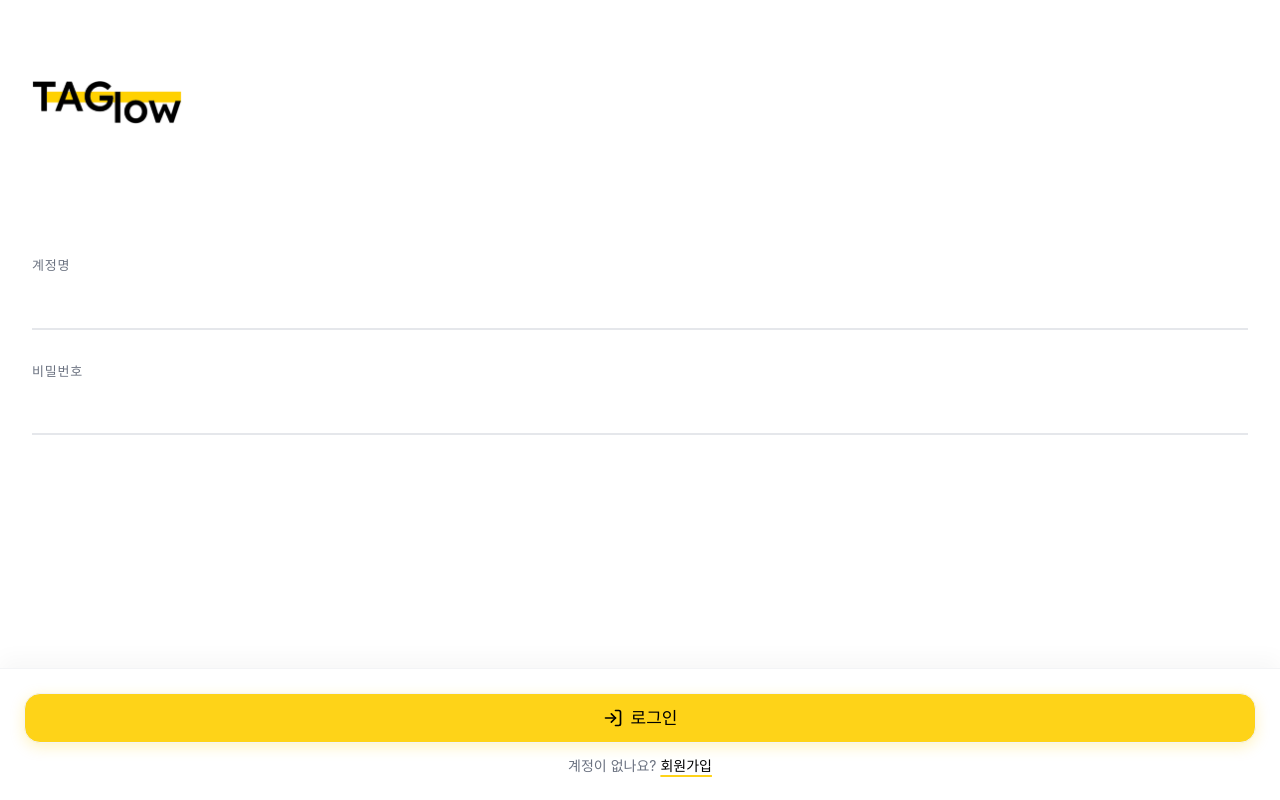
Test: LoginPage › does not block short login ids before submitting
Type "ab" into the field labelled "계정명". click: {"x": 640, "y": 307}
box: [32,284,1248,330]
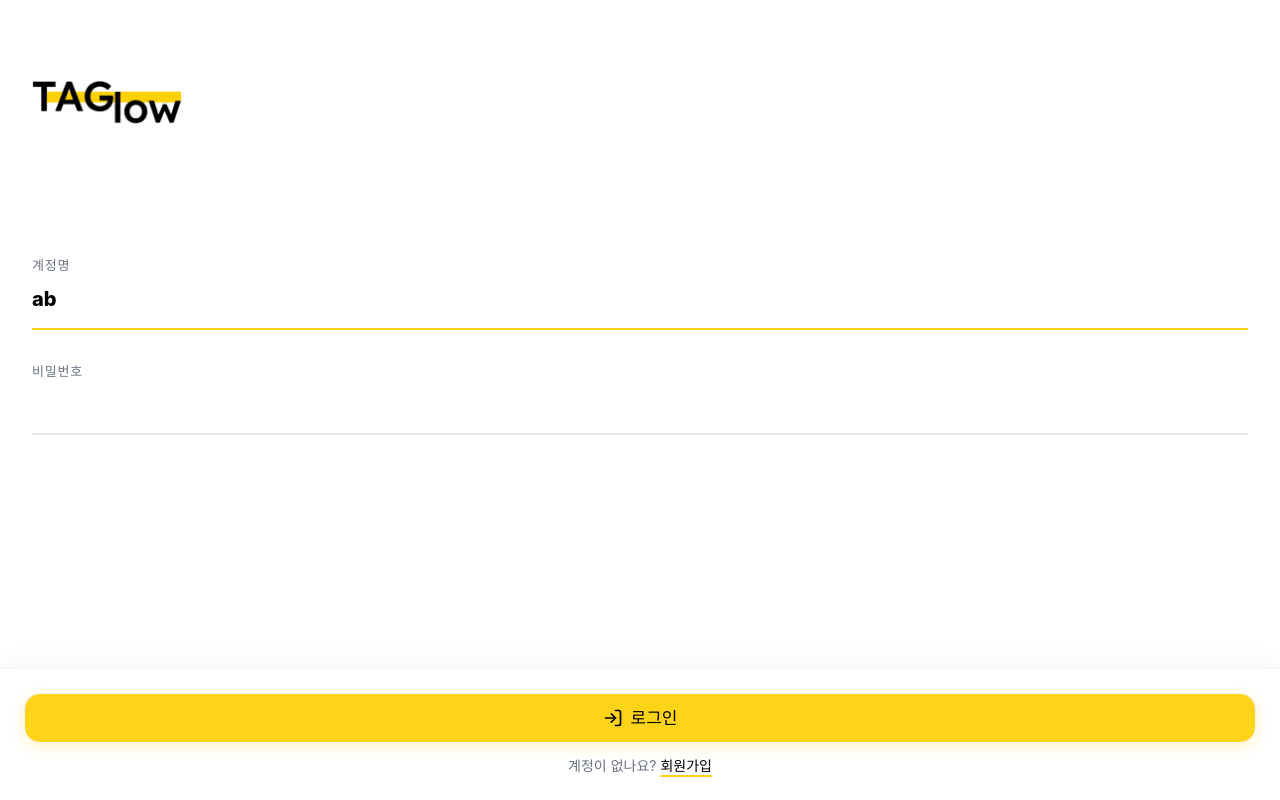
Type "password123" into the password field labelled "비밀번호". click: {"x": 640, "y": 412}
box: [32,389,1248,435]
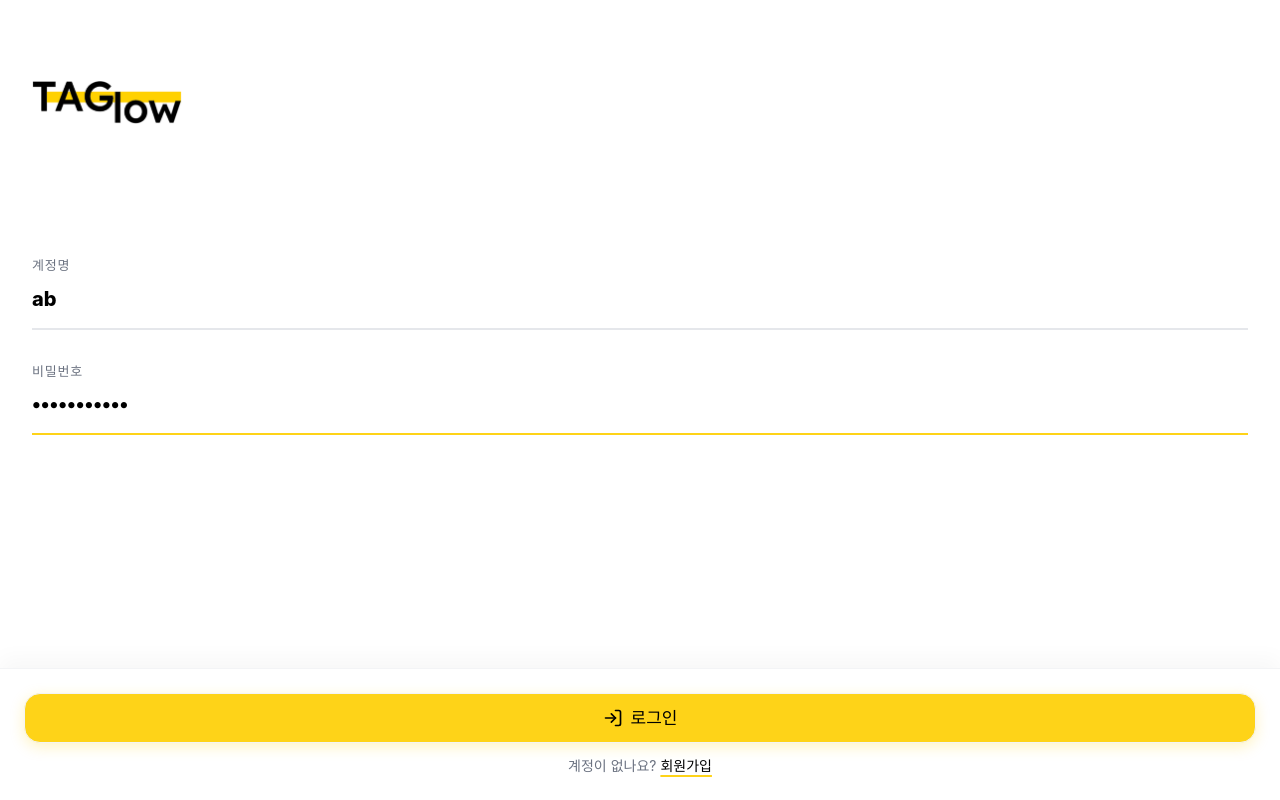
Click the button "로그인". click: {"x": 640, "y": 718}
box: [24,693,1256,743]
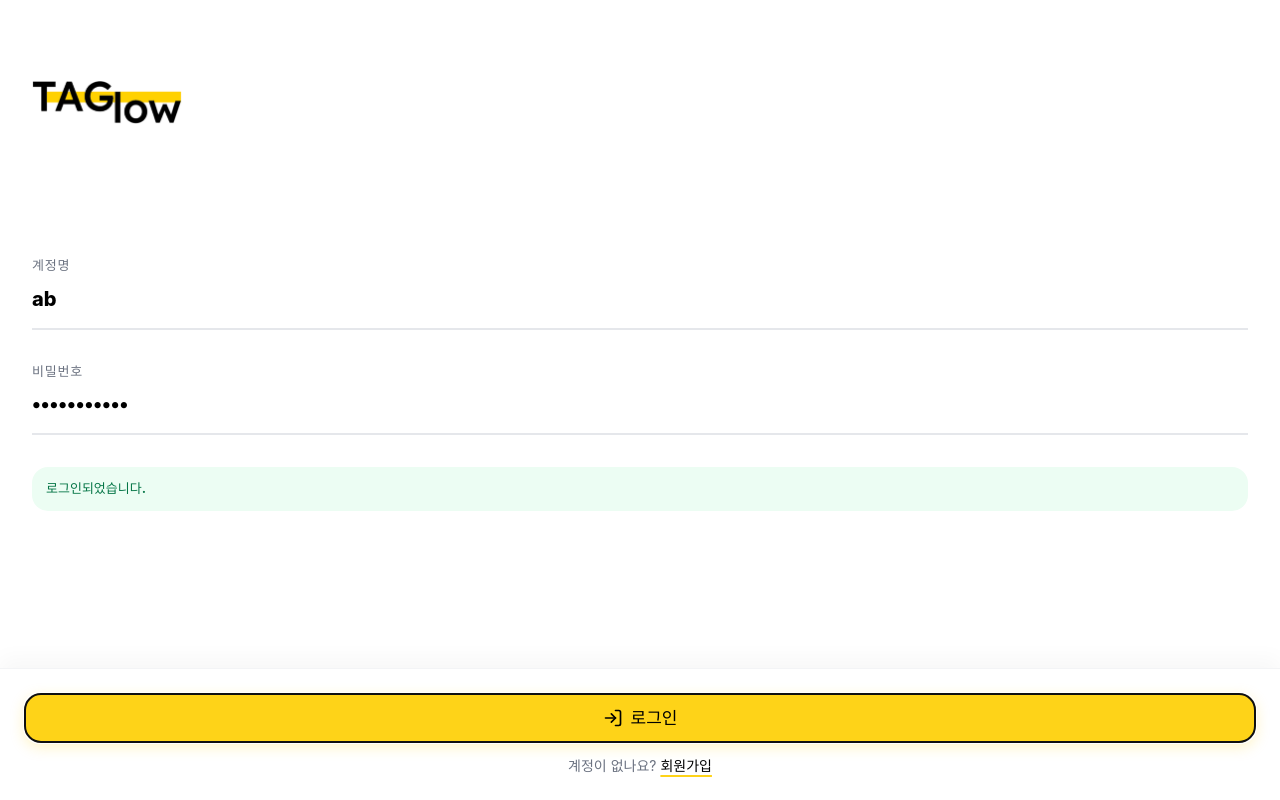
expect the text "로그인되었습니다." is shown: met, box [32,467,1248,511]
